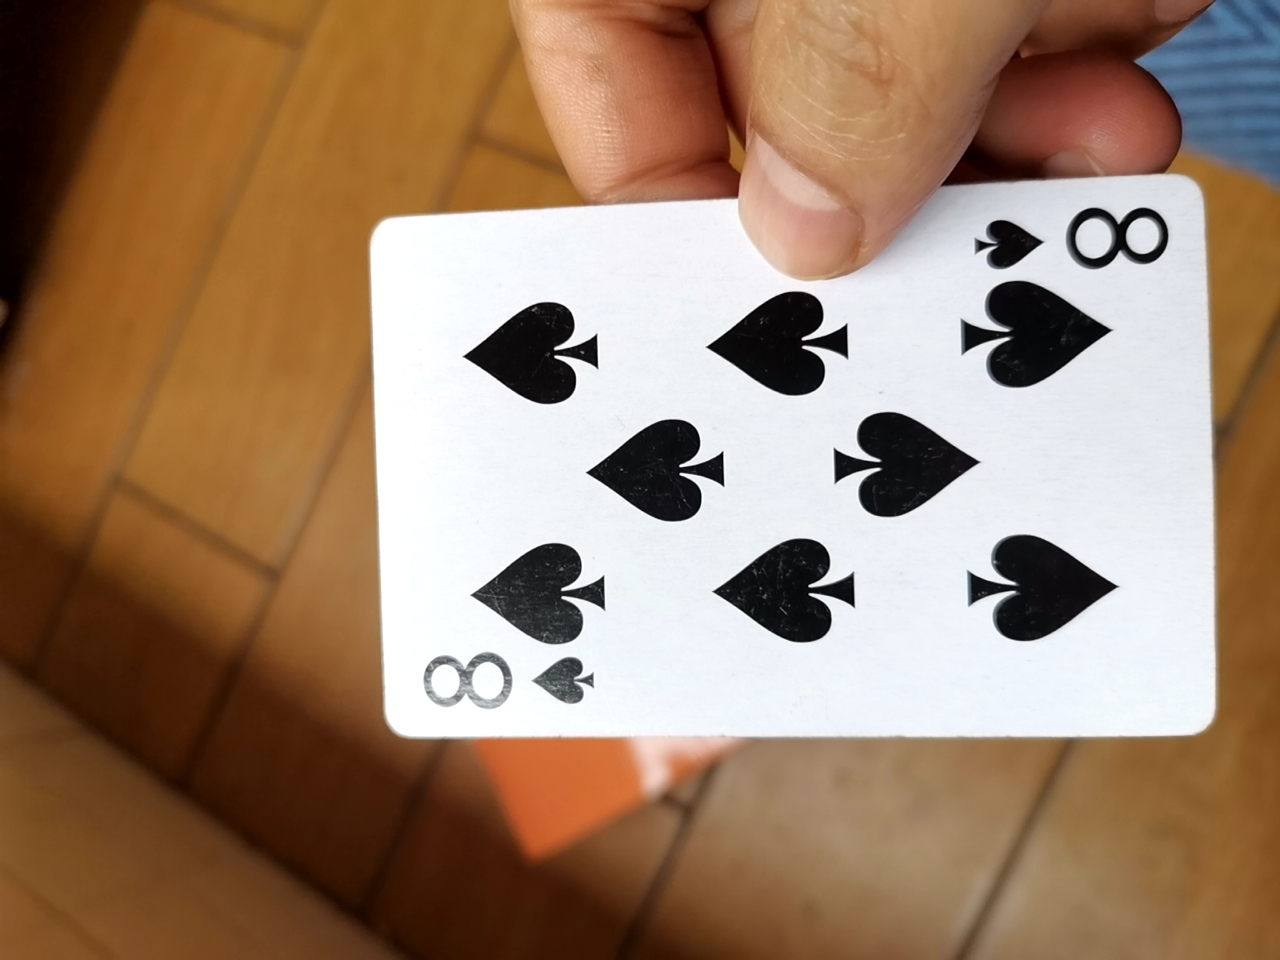ht 8: (355, 176, 1217, 755)
